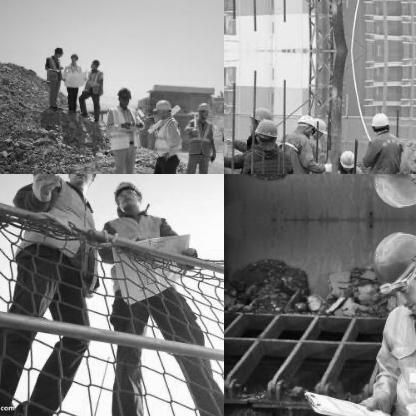Helmet: (361, 225, 415, 314), (360, 174, 415, 215), (110, 176, 145, 214), (247, 105, 272, 131), (60, 174, 100, 190), (254, 118, 278, 142), (152, 95, 174, 119), (115, 83, 135, 107), (336, 146, 356, 170), (368, 107, 388, 130), (296, 111, 314, 135), (310, 116, 326, 139), (194, 98, 212, 118), (89, 57, 101, 71), (51, 44, 63, 58)
